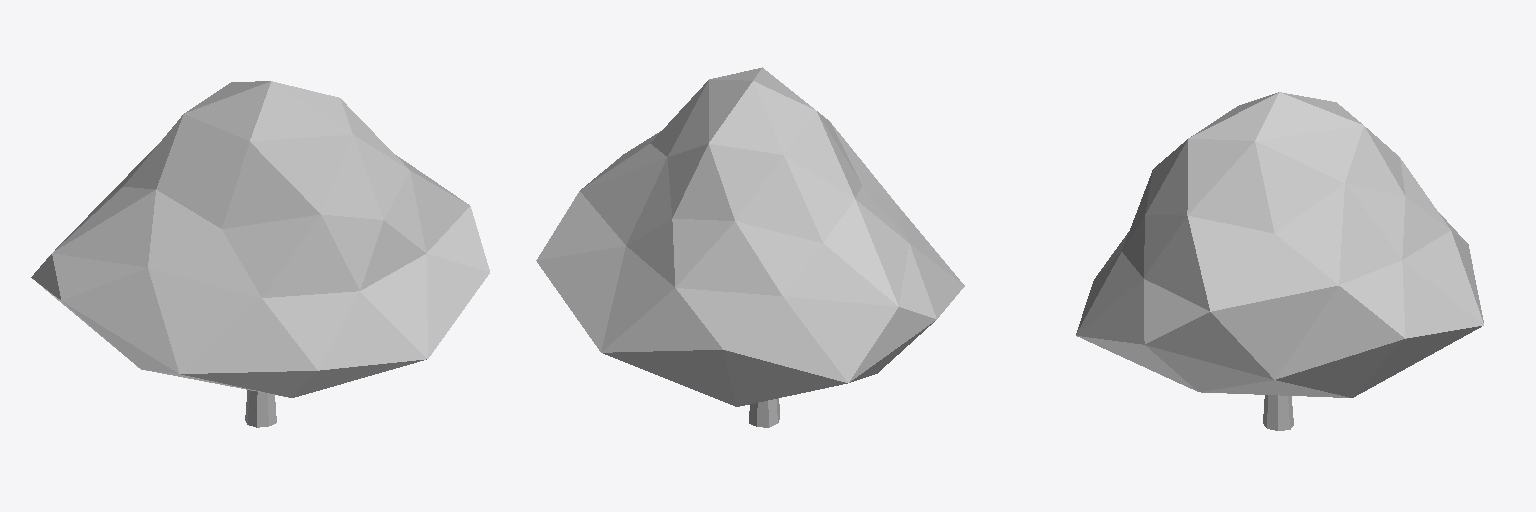
File: tree-oak0.obj
The picture shows the model from 3 angles: view 1: azimuth 30°, elevation 25°; view 2: azimuth 150°, elevation 25°; view 3: azimuth 270°, elevation 25°; orthographic projection.
Visible parts, largest first — view 1: stalk_Cube.001; view 2: stalk_Cube.001; view 3: stalk_Cube.001.
Part boxes in pixels (bbox=[...]): stalk_Cube.001: bbox=[31, 81, 489, 427]; stalk_Cube.001: bbox=[536, 67, 964, 427]; stalk_Cube.001: bbox=[1076, 92, 1483, 430].
Size of the model in its own units: 5.76 by 5.19 by 5.61.